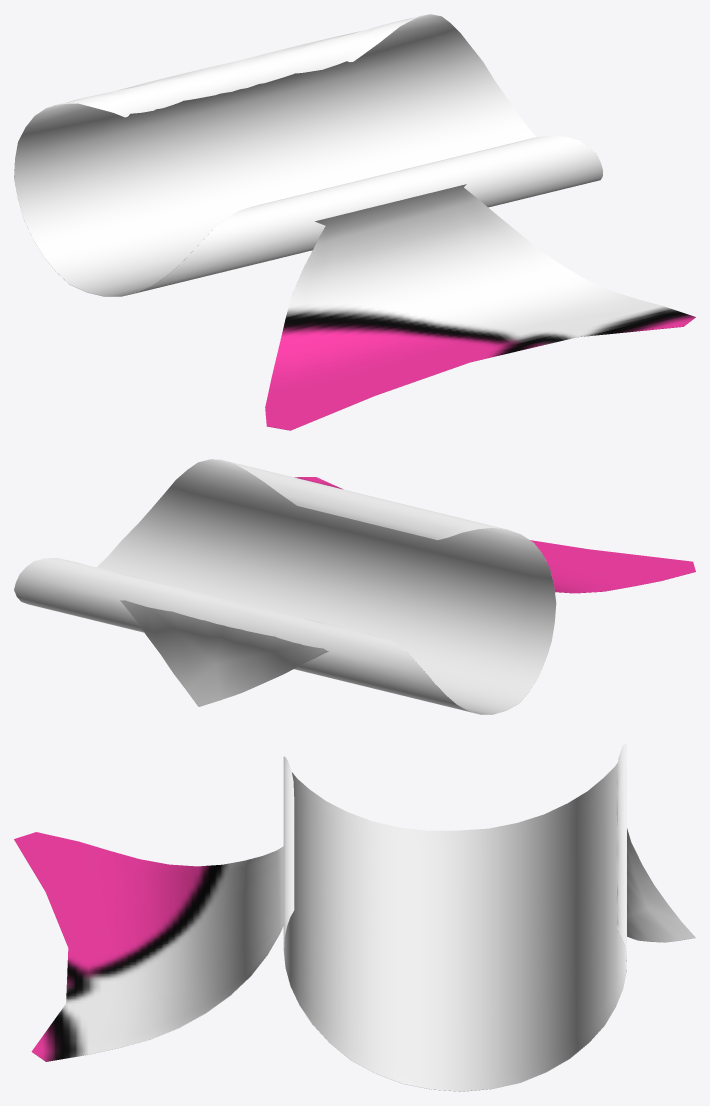
File: Level 160.fbx
The picture shows the model from 3 angles, top to bottom: view 1: azimuth 30°, elevation 25°; view 2: azimuth 150°, elevation 25°; view 3: azimuth 270°, elevation 25°; orthographic projection. The views are drawn at different scales.
Parts seen in each view (by area): view 1: fish; view 2: fish; view 3: fish.
Part boxes in pixels (x1=…): fish: x1=14, y1=14, x2=695, y2=430; fish: x1=14, y1=459, x2=695, y2=714; fish: x1=14, y1=743, x2=695, y2=1091.
Size of what is drawn, in the model's own units: 222 by 47.09 by 245.
